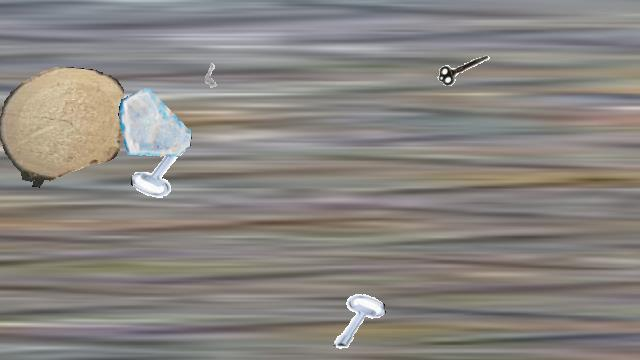glass: (118, 85, 192, 159)
metal: (131, 139, 193, 201), (326, 290, 386, 350), (435, 42, 493, 100), (192, 52, 230, 90)
wood: (0, 67, 123, 189)
